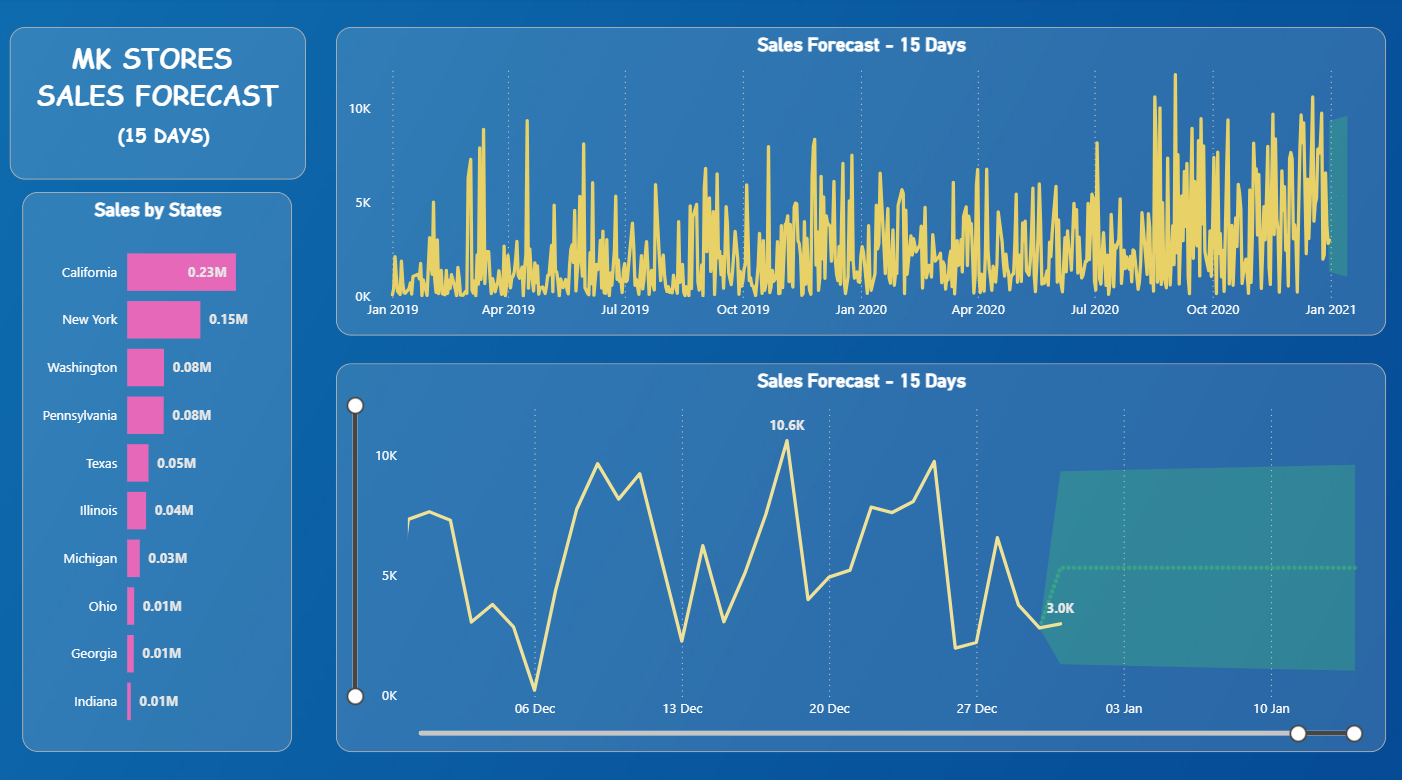

The page's visual inventory and layout, read from the dashboard file:
{"tool":"powerbi","page":{"name":"Page 2","canvas":[1280,720],"ordinal":1},"visuals":[{"type":"lineChart","title":"Sales Forecast - 15 Days","fields":{"Y":["Sum(Sales Forecast.Total Sales)"],"Category":["Sales Forecast.Order Date"]},"box":[308.1,26.7,952.5,280],"z":0},{"type":"lineChart","title":"Sales Forecast - 15 Days","fields":{"Y":["Sum(Sales Forecast.Total Sales)"],"Category":["Sales Forecast.Order Date"]},"box":[308.1,332,952.5,353.1],"z":1000},{"type":"clusteredBarChart","title":"Sales by States","fields":{"Category":["SuperStore_Sales_Dataset.State"],"Y":["Sum(SuperStore_Sales_Dataset.Sales)"]},"box":[24.2,177,244.9,508],"z":2000},{"type":"textbox","box":[12.1,26.7,269.1,138.2],"z":3000}]}

Visuals, with their boxes in screenshot pixels (x1, y1, x2, y2), scaled from the page's 1280x720 canvas onto the 1402x780 screenshot:
"Sales Forecast - 15 Days" lineChart: x1=337, y1=29, x2=1381, y2=332
"Sales Forecast - 15 Days" lineChart: x1=337, y1=360, x2=1381, y2=742
"Sales by States" clusteredBarChart: x1=27, y1=192, x2=295, y2=742
textbox: x1=13, y1=29, x2=308, y2=179
